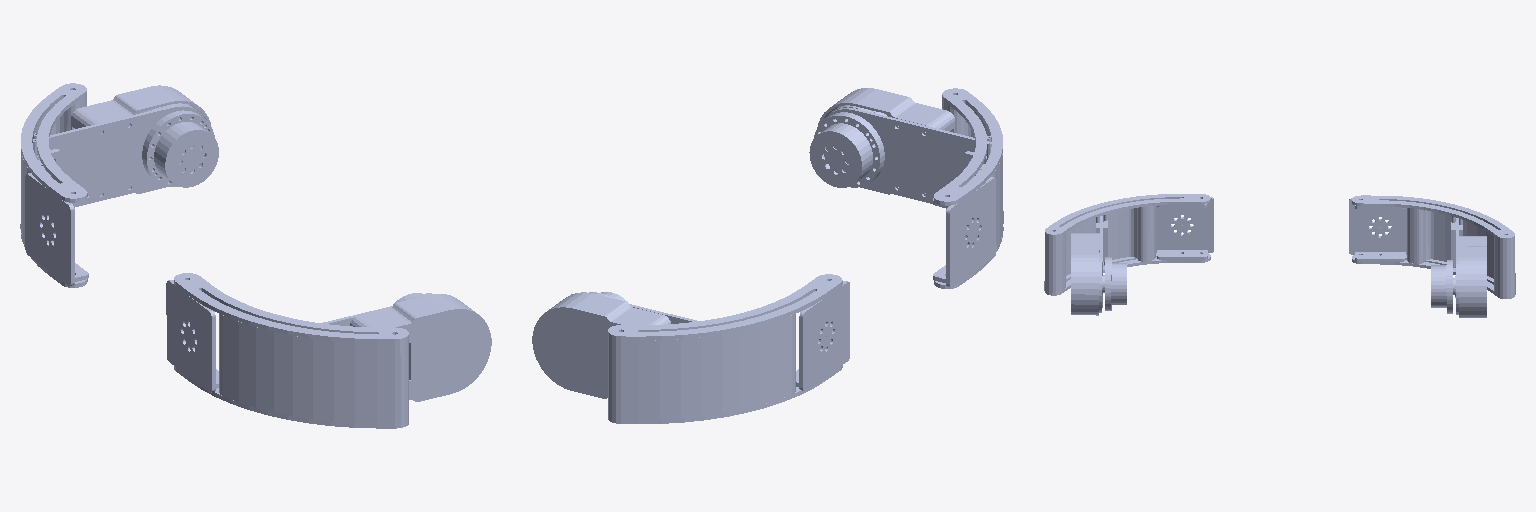
The robot description file, URDF, robot "exoskeleton_btp":
<?xml version="1.0" encoding="utf-8"?>
<!-- This URDF was automatically created by SolidWorks to URDF Exporter! Originally created by [author] ([email redacted]) 
     Commit Version: 1.5.1-0-g916b5db  Build Version: 1.5.7152.31018
     For more information, please see http://wiki.ros.org/sw_urdf_exporter -->
<robot
  name="exoskeleton_btp">
  <link
    name="base_link_back">
    <inertial>
      <origin
        xyz="0.1374 0.17784 0.29296"
        rpy="0 0 0" />
      <mass
        value="1.6284" />
      <inertia
        ixx="0.0049242"
        ixy="-1.1068E-07"
        ixz="1.4133E-05"
        iyy="0.0012571"
        iyz="6.8671E-06"
        izz="0.0040482" />
    </inertial>
    <visual>
      <origin
        xyz="0 0 0"
        rpy="0 0 0" />
      <geometry>
        <mesh
          filename="package://exoskeleton_btp/meshes/base_link.STL" />
      </geometry>
      <material
        name="">
        <color
          rgba="0.79216 0.81961 0.93333 1" />
      </material>
    </visual>
    <collision>
      <origin
        xyz="0 0 0"
        rpy="0 0 0" />
      <geometry>
        <mesh
          filename="package://exoskeleton_btp/meshes/base_link.STL" />
      </geometry>
    </collision>
  </link>
  <link
    name="right_abd">
    <inertial>
      <origin
        xyz="0.060901 0.00077301 0.1073"
        rpy="0 0 0" />
      <mass
        value="0.39057" />
      <inertia
        ixx="0.0017341"
        ixy="-6.9806E-06"
        ixz="-0.0009688"
        iyy="0.0022726"
        iyz="-8.6331E-06"
        izz="0.0010696" />
    </inertial>
    <visual>
      <origin
        xyz="0 0 0"
        rpy="0 0 0" />
      <geometry>
        <mesh
          filename="package://exoskeleton_btp/meshes/right_abd.STL" />
      </geometry>
      <material
        name="">
        <color
          rgba="0.79216 0.81961 0.93333 1" />
      </material>
    </visual>
    <collision>
      <origin
        xyz="0 0 0"
        rpy="0 0 0" />
      <geometry>
        <mesh
          filename="package://exoskeleton_btp/meshes/right_abd.STL" />
      </geometry>
    </collision>
  </link>
  <joint
    name="joint_right_abd"
    type="continuous">
    <origin
      xyz="0.18866 -0.44997 0.15871"
      rpy="1.5762 -8.7598E-05 0" />
    <parent
      link="base_link_back" />
    <child
      link="right_abd" />
    <axis
      xyz="-0.99987 0 -0.016127" />
    <limit
      lower="-1.57"
      upper="1.57"
      effort="50"
      velocity="2" />
  </joint>
  <link
    name="right_IR">
    <inertial>
      <origin
        xyz="-0.0392871810712728 0.0411109744677959 0.138935601316326"
        rpy="0 0 0" />
      <mass
        value="0.603610840109084" />
      <inertia
        ixx="0.000492310842165682"
        ixy="-2.43938943929523E-07"
        ixz="-1.74058723223123E-05"
        iyy="0.000854839735660645"
        iyz="2.49487643777159E-06"
        izz="0.00119850539145051" />
    </inertial>
    <visual>
      <origin
        xyz="0 0 0"
        rpy="0 0 0" />
      <geometry>
        <mesh
          filename="package://exoskeleton_btp/meshes/right_IR.STL" />
      </geometry>
      <material
        name="">
        <color
          rgba="0.792156862745098 0.819607843137255 0.933333333333333 1" />
      </material>
    </visual>
    <collision>
      <origin
        xyz="0 0 0"
        rpy="0 0 0" />
      <geometry>
        <mesh
          filename="package://exoskeleton_btp/meshes/right_IR.STL" />
      </geometry>
    </collision>
  </link>
  <joint
    name="joint_right_ir"
    type="continuous">
    <origin
      xyz="0.23659 -0.03974 0.0041779"
      rpy="0 -0.008859 6.4417E-05" />
    <parent
      link="right_abd" />
    <child
      link="right_IR" />
    <axis
      xyz="-0.00011727 -0.99997 0.0072704" />
    <limit
      lower="-0.78"
      upper="0.78"
      effort="0"
      velocity="0" />
  </joint>
  <link
    name="right_thigh">
    <inertial>
      <origin
        xyz="-0.00587420466230082 -0.298902174142625 0.091775599276321"
        rpy="0 0 0" />
      <mass
        value="1.15370911386034" />
      <inertia
        ixx="0.00218007175592022"
        ixy="-1.55748585880625E-05"
        ixz="-4.42415137653492E-06"
        iyy="0.00132233462272001"
        iyz="5.74444533558131E-05"
        izz="0.00283882830556965" />
    </inertial>
    <visual>
      <origin
        xyz="0 0 0"
        rpy="0 0 0" />
      <geometry>
        <mesh
          filename="package://exoskeleton_btp/meshes/right_thigh.STL" />
      </geometry>
      <material
        name="">
        <color
          rgba="0.792156862745098 0.819607843137255 0.933333333333333 1" />
      </material>
    </visual>
    <collision>
      <origin
        xyz="0 0 0"
        rpy="0 0 0" />
      <geometry>
        <mesh
          filename="package://exoskeleton_btp/meshes/right_thigh.STL" />
      </geometry>
    </collision>
  </link>
  <joint
    name="joint_right_hip_flexion"
    type="continuous">
    <origin
      xyz="-0.0098949 0.050182 -0.00036542"
      rpy="0 0.00014564 0.020031" />
    <parent
      link="right_IR" />
    <child
      link="right_thigh" />
    <axis
      xyz="-5.6331E-05 0.0072704 0.99997" />
    <limit
      lower="-1.57"
      upper="1.57"
      effort="50"
      velocity="2" />
  </joint>
  <link
    name="right_shin">
    <inertial>
      <origin
        xyz="-0.00484324975988659 -0.249966332784877 0.0473164354576108"
        rpy="0 0 0" />
      <mass
        value="1.02843390965148" />
      <inertia
        ixx="0.00235506979229389"
        ixy="-4.16475367765636E-05"
        ixz="-5.53584798297785E-06"
        iyy="0.00135441560259714"
        iyz="3.29601832998121E-05"
        izz="0.00314486729465403" />
    </inertial>
    <visual>
      <origin
        xyz="0 0 0"
        rpy="0 0 0" />
      <geometry>
        <mesh
          filename="package://exoskeleton_btp/meshes/right_shin.STL" />
      </geometry>
      <material
        name="">
        <color
          rgba="0.792156862745098 0.819607843137255 0.933333333333333 1" />
      </material>
    </visual>
    <collision>
      <origin
        xyz="0 0 0"
        rpy="0 0 0" />
      <geometry>
        <mesh
          filename="package://exoskeleton_btp/meshes/right_shin.STL" />
      </geometry>
    </collision>
  </link>
  <joint
    name="right_knee_joint"
    type="continuous">
    <origin
      xyz="-0.0080859 -0.43466 0.0031598"
      rpy="0 -4.2582E-05 -0.0058569" />
    <parent
      link="right_thigh" />
    <child
      link="right_shin" />
    <axis
      xyz="-5.6331E-05 0.0072704 0.99997" />
    <limit
      lower="0"
      upper="1.57"
      effort="50"
      velocity="2" />
  </joint>
  <link
    name="base_link">
    <inertial>
      <origin
        xyz="0.0270286138870783 -0.0603750401354918 -0.0491138257398857"
        rpy="0 0 0" />
      <mass
        value="0.488467661155972" />
      <inertia
        ixx="0.000615128535492023"
        ixy="3.500753715996E-06"
        ixz="-1.67688728203427E-08"
        iyy="0.000990291323750016"
        iyz="-3.84872415697616E-06"
        izz="0.000460939635747118" />
    </inertial>
    <visual>
      <origin
        xyz="0 0 0"
        rpy="0 0 0" />
      <geometry>
        <mesh
          filename="package://exoskeleton_btp/meshes/right_foot.STL" />
      </geometry>
      <material
        name="">
        <color
          rgba="0.792156862745098 0.819607843137255 0.933333333333333 1" />
      </material>
    </visual>
    <collision>
      <origin
        xyz="0 0 0"
        rpy="0 0 0" />
      <geometry>
        <mesh
          filename="package://exoskeleton_btp/meshes/right_foot.STL" />
      </geometry>
    </collision>
  </link>
  <joint
    name="right_ankle_flexion"
    type="continuous">
    <origin
      xyz="-0.0076107 -0.41617 0.0029527"
      rpy="0 -0.00017972 -0.024724" />
    <parent
      link="right_shin" />
    <child
      link="base_link" />
    <axis
      xyz="-5.6331E-05 0.0072704 0.99997" />
    <limit
      lower="-0.78"
      upper="0.78"
      effort="0"
      velocity="0" />
  </joint>
  <link
    name="left_abd">
    <inertial>
      <origin
        xyz="0.0652322924298407 -0.00922698573131753 0.107372356173445"
        rpy="0 0 0" />
      <mass
        value="0.390571538812804" />
      <inertia
        ixx="0.00173406573408417"
        ixy="-6.98064356900783E-06"
        ixz="-0.000968802831064001"
        iyy="0.00227256938156413"
        iyz="-8.6330776029772E-06"
        izz="0.00106961365428043" />
    </inertial>
    <visual>
      <origin
        xyz="0 0 0"
        rpy="0 0 0" />
      <geometry>
        <mesh
          filename="package://exoskeleton_btp/meshes/left_abd.STL" />
      </geometry>
      <material
        name="">
        <color
          rgba="0.792156862745098 0.819607843137255 0.933333333333333 1" />
      </material>
    </visual>
    <collision>
      <origin
        xyz="0 0 0"
        rpy="0 0 0" />
      <geometry>
        <mesh
          filename="package://exoskeleton_btp/meshes/left_abd.STL" />
      </geometry>
    </collision>
  </link>
  <joint
    name="joint_left_abd"
    type="continuous">
    <origin
      xyz="0.18936 -0.13768 0.14796"
      rpy="-1.5627 0.00013065 -0.032255" />
    <parent
      link="base_link_back" />
    <child
      link="left_abd" />
    <axis
      xyz="-0.99987 0 -0.016127" />
    <limit
      lower="-1.57"
      upper="1.57"
      effort="50"
      velocity="2" />
  </joint>
  <link
    name="left_IR">
    <inertial>
      <origin
        xyz="-0.0392990142875405 -0.0497943875974824 0.139669246292548"
        rpy="0 0 0" />
      <mass
        value="0.603610840109083" />
      <inertia
        ixx="0.000492310842165682"
        ixy="-2.43938943929588E-07"
        ixz="-1.74058723223128E-05"
        iyy="0.000854839735660643"
        iyz="2.49487643777121E-06"
        izz="0.0011985053914505" />
    </inertial>
    <visual>
      <origin
        xyz="0 0 0"
        rpy="0 0 0" />
      <geometry>
        <mesh
          filename="package://exoskeleton_btp/meshes/left_IR.STL" />
      </geometry>
      <material
        name="">
        <color
          rgba="0.792156862745098 0.819607843137255 0.933333333333333 1" />
      </material>
    </visual>
    <collision>
      <origin
        xyz="0 0 0"
        rpy="0 0 0" />
      <geometry>
        <mesh
          filename="package://exoskeleton_btp/meshes/left_IR.STL" />
      </geometry>
    </collision>
  </link>
  <joint
    name="joint_left_ir"
    type="continuous">
    <origin
      xyz="0.24094 0.041166 0.0035141"
      rpy="0 -0.03127 0.00022748" />
    <parent
      link="left_abd" />
    <child
      link="left_IR" />
    <axis
      xyz="-0.00011727 -0.99997 0.0072704" />
    <limit
      lower="-0.78"
      upper="0.78"
      effort="0"
      velocity="0" />
  </joint>
  <link
    name="left_thigh">
    <inertial>
      <origin
        xyz="-0.00587419889410834 -0.288902135446464 0.0917754024034975"
        rpy="0 0 0" />
      <mass
        value="1.15370940261833" />
      <inertia
        ixx="0.00218007113154743"
        ixy="-1.5574685975789E-05"
        ixz="-4.42993941603603E-06"
        iyy="0.00132233519439819"
        iyz="5.74409958686481E-05"
        izz="0.00283882929782907" />
    </inertial>
    <visual>
      <origin
        xyz="0 0 0"
        rpy="0 0 0" />
      <geometry>
        <mesh
          filename="package://exoskeleton_btp/meshes/left_thigh.STL" />
      </geometry>
      <material
        name="">
        <color
          rgba="0.792156862745098 0.819607843137255 0.933333333333333 1" />
      </material>
    </visual>
    <collision>
      <origin
        xyz="0 0 0"
        rpy="0 0 0" />
      <geometry>
        <mesh
          filename="package://exoskeleton_btp/meshes/left_thigh.STL" />
      </geometry>
    </collision>
  </link>
  <joint
    name="joint_left_hip_flexion"
    type="continuous">
    <origin
      xyz="-0.0097064 -0.050721 0.00036823"
      rpy="0.01454 -0.00010065 -3.1123" />
    <parent
      link="left_IR" />
    <child
      link="left_thigh" />
    <axis
      xyz="-5.6331E-05 0.0072704 0.99997" />
    <limit
      lower="-1.57"
      upper="1.57"
      effort="50"
      velocity="2" />
  </joint>
  <link
    name="left_shin">
    <inertial>
      <origin
        xyz="0.0021572666461262 -0.242332427675037 -0.0452747616492767"
        rpy="0 0 0" />
      <mass
        value="1.03950139195202" />
      <inertia
        ixx="0.00235534748488329"
        ixy="1.0328444631963E-06"
        ixz="-5.62826250871304E-06"
        iyy="0.00135495549315268"
        iyz="-1.74678122164304E-05"
        izz="0.00314522174843718" />
    </inertial>
    <visual>
      <origin
        xyz="0 0 0"
        rpy="0 0 0" />
      <geometry>
        <mesh
          filename="package://exoskeleton_btp/meshes/left_shin.STL" />
      </geometry>
      <material
        name="">
        <color
          rgba="0.792156862745098 0.819607843137255 0.933333333333333 1" />
      </material>
    </visual>
    <collision>
      <origin
        xyz="0 0 0"
        rpy="0 0 0" />
      <geometry>
        <mesh
          filename="package://exoskeleton_btp/meshes/left_shin.STL" />
      </geometry>
    </collision>
  </link>
  <joint
    name="joint_left_knee_flexion"
    type="continuous">
    <origin
      xyz="-0.0081444 -0.43466 0.0031598"
      rpy="-3.1343 0.00027035 3.1121" />
    <parent
      link="left_thigh" />
    <child
      link="left_shin" />
    <axis
      xyz="0 0 -1" />
    <limit
      lower="0"
      upper="1.57"
      effort="50"
      velocity="2" />
  </joint>
  <link
    name="left_foot">
    <inertial>
      <origin
        xyz="0.0267458471873576 -0.0597868208876867 0.0498052197209016"
        rpy="0 0 0" />
      <mass
        value="0.490370608685154" />
      <inertia
        ixx="0.000615366860470383"
        ixy="7.52417050805258E-06"
        ixz="-5.27465873232875E-12"
        iyy="0.000990180392648353"
        iyz="2.64536994064652E-12"
        izz="0.000460940554043818" />
    </inertial>
    <visual>
      <origin
        xyz="0 0 0"
        rpy="0 0 0" />
      <geometry>
        <mesh
          filename="package://exoskeleton_btp/meshes/left_foot.STL" />
      </geometry>
      <material
        name="">
        <color
          rgba="0.792156862745098 0.819607843137255 0.933333333333333 1" />
      </material>
    </visual>
    <collision>
      <origin
        xyz="0 0 0"
        rpy="0 0 0" />
      <geometry>
        <mesh
          filename="package://exoskeleton_btp/meshes/left_foot.STL" />
      </geometry>
    </collision>
  </link>
  <joint
    name="joint_left_ankle_flexion"
    type="continuous">
    <origin
      xyz="0.0031757 -0.40989 0"
      rpy="0 0 0" />
    <parent
      link="left_shin" />
    <child
      link="left_foot" />
    <axis
      xyz="0 0 -1" />
    <limit
      lower="-0.78"
      upper="0.78"
      effort="0"
      velocity="0" />
  </joint>
   
<transmission name="trans_joint_right_abd">
        <type>transmission_interface/SimpleTransmission</type>
        <joint name="joint_right_abd">
            <hardwareInterface>hardware_interface/PositionJointInterface</hardwareInterface>
        </joint>
        <actuator name="joint_right_abd_motor">
            <hardwareInterface>hardware_interface/PositionJointInterface</hardwareInterface>
            <mechanicalReduction>1</mechanicalReduction>
        </actuator>
    </transmission>
    <transmission name="trans_joint_right_ir">
        <type>transmission_interface/SimpleTransmission</type>
        <joint name="joint_right_ir">
            <hardwareInterface>hardware_interface/PositionJointInterface</hardwareInterface>
        </joint>
        <actuator name="joint_right_ir_motor">
            <hardwareInterface>hardware_interface/PositionJointInterface</hardwareInterface>
            <mechanicalReduction>1</mechanicalReduction>
        </actuator>
    </transmission>
    <transmission name="trans_joint_right_hip_flexion">
        <type>transmission_interface/SimpleTransmission</type>
        <joint name="joint_right_hip_flexion">
            <hardwareInterface>hardware_interface/PositionJointInterface</hardwareInterface>
        </joint>
        <actuator name="joint_right_hip_flexion_motor">
            <hardwareInterface>hardware_interface/PositionJointInterface</hardwareInterface>
            <mechanicalReduction>1</mechanicalReduction>
        </actuator>
    </transmission>
    <transmission name="trans_right_knee_joint">
        <type>transmission_interface/SimpleTransmission</type>
        <joint name="right_knee_joint">
            <hardwareInterface>hardware_interface/PositionJointInterface</hardwareInterface>
        </joint>
        <actuator name="right_knee_joint_motor">
            <hardwareInterface>hardware_interface/PositionJointInterface</hardwareInterface>
            <mechanicalReduction>1</mechanicalReduction>
        </actuator>
    </transmission>
    <transmission name="trans_right_ankle_flexion">
        <type>transmission_interface/SimpleTransmission</type>
        <joint name="right_ankle_flexion">
            <hardwareInterface>hardware_interface/PositionJointInterface</hardwareInterface>
        </joint>
        <actuator name="right_ankle_flexion_motor">
            <hardwareInterface>hardware_interface/PositionJointInterface</hardwareInterface>
            <mechanicalReduction>1</mechanicalReduction>
        </actuator>
    </transmission>
    <transmission name="trans_joint_left_abd">
        <type>transmission_interface/SimpleTransmission</type>
        <joint name="joint_left_abd">
            <hardwareInterface>hardware_interface/PositionJointInterface</hardwareInterface>
        </joint>
        <actuator name="joint_left_abd_motor">
            <hardwareInterface>hardware_interface/PositionJointInterface</hardwareInterface>
            <mechanicalReduction>1</mechanicalReduction>
        </actuator>
    </transmission>
    <transmission name="trans_joint_left_ir">
        <type>transmission_interface/SimpleTransmission</type>
        <joint name="joint_left_ir">
            <hardwareInterface>hardware_interface/PositionJointInterface</hardwareInterface>
        </joint>
        <actuator name="joint_left_ir_motor">
            <hardwareInterface>hardware_interface/PositionJointInterface</hardwareInterface>
            <mechanicalReduction>1</mechanicalReduction>
        </actuator>
    </transmission>
    <transmission name="trans_joint_left_hip_flexion">
        <type>transmission_interface/SimpleTransmission</type>
        <joint name="joint_left_hip_flexion">
            <hardwareInterface>hardware_interface/PositionJointInterface</hardwareInterface>
        </joint>
        <actuator name="joint_left_hip_flexion_motor">
            <hardwareInterface>hardware_interface/PositionJointInterface</hardwareInterface>
            <mechanicalReduction>1</mechanicalReduction>
        </actuator>
    </transmission>
    <transmission name="trans_joint_left_knee_flexion">
        <type>transmission_interface/SimpleTransmission</type>
        <joint name="joint_left_knee_flexion">
            <hardwareInterface>hardware_interface/PositionJointInterface</hardwareInterface>
        </joint>
        <actuator name="joint_left_knee_flexion_motor">
            <hardwareInterface>hardware_interface/PositionJointInterface</hardwareInterface>
            <mechanicalReduction>1</mechanicalReduction>
        </actuator>
    </transmission>
    <transmission name="trans_joint_left_ankle_flexion">
        <type>transmission_interface/SimpleTransmission</type>
        <joint name="joint_left_ankle_flexion">
            <hardwareInterface>hardware_interface/PositionJointInterface</hardwareInterface>
        </joint>
        <actuator name="joint_left_ankle_flexion_motor">
            <hardwareInterface>hardware_interface/PositionJointInterface</hardwareInterface>
            <mechanicalReduction>1</mechanicalReduction>
        </actuator>
    </transmission>
    <gazebo>
        <plugin name="gazebo_ros_control" filename="libgazebo_ros_control.so">
            <robotNamespace>/</robotNamespace>
        </plugin>
    </gazebo>
</robot>

--- Facts derived from the render (not from the file) ---
Views: 3 orthographic renders of the robot side by side, from view 1: azimuth 30°, elevation 25°; view 2: azimuth 150°, elevation 25°; view 3: azimuth 270°, elevation 25°.
Model exoskeleton_btp with 11 links and 10 joints (10 continuous), rooted at base_link_back, posed all joints at 0.
Visible links, largest first — view 1: right_abd, left_IR, left_abd, right_IR; view 2: left_abd, right_IR, right_abd, left_IR; view 3: right_abd, left_abd, right_IR, left_IR.
Boxes of the visible links, x1,y1,x2,y2 form: right_abd: (166,273,408,428); left_IR: (32,85,218,207); left_abd: (20,83,88,287); right_IR: (322,293,491,401); left_abd: (608,274,849,423); right_IR: (809,88,991,203); right_abd: (933,88,1003,288); left_IR: (532,292,697,398); right_abd: (1044,194,1213,295); left_abd: (1349,195,1515,298); right_IR: (1071,214,1126,315); left_IR: (1431,216,1486,317).
Size in the robot's own frame: 0.2811 by 0.743 by 0.1072 metres.
4 mesh visuals loaded from 11 distinct referenced files (4 binary STL); not drawn: 7 (reference not matched to a file when rendering).